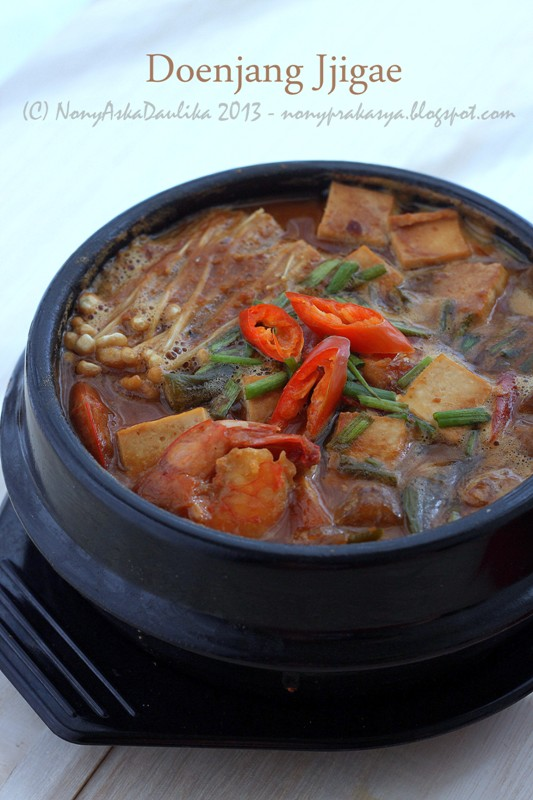doenjangjjigae: (57, 178, 533, 544)
